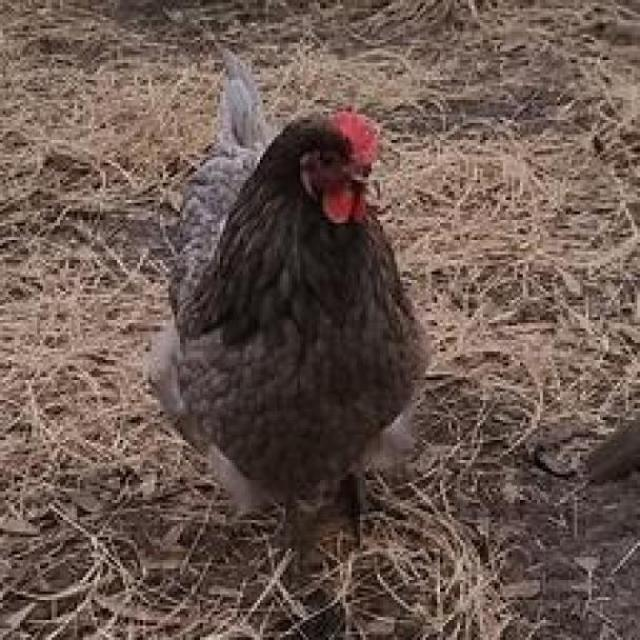Chicken: (156, 47, 447, 571)
